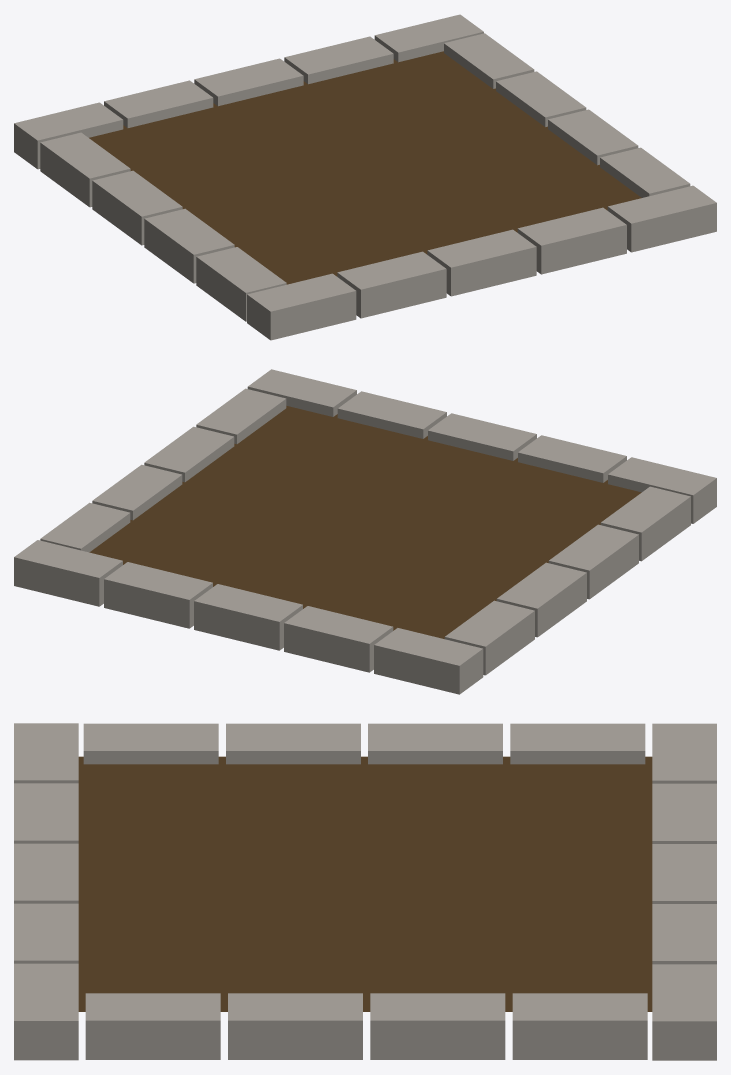
The model's file is tree_bed.glb.
The picture shows the model from 3 angles, top to bottom: view 1: azimuth 30°, elevation 25°; view 2: azimuth 150°, elevation 25°; view 3: azimuth 270°, elevation 25°; orthographic projection. The views are drawn at different scales.
Parts seen in each view (by area): view 1: TreeBase; view 2: TreeBase; view 3: TreeBase.
Part boxes in pixels (x1,y1,x2,y2): TreeBase: (14,14,716,340); TreeBase: (14,369,716,694); TreeBase: (14,723,716,1060).
Bounding box in the file's own units: 2.48 × 0.1528 × 2.47.
